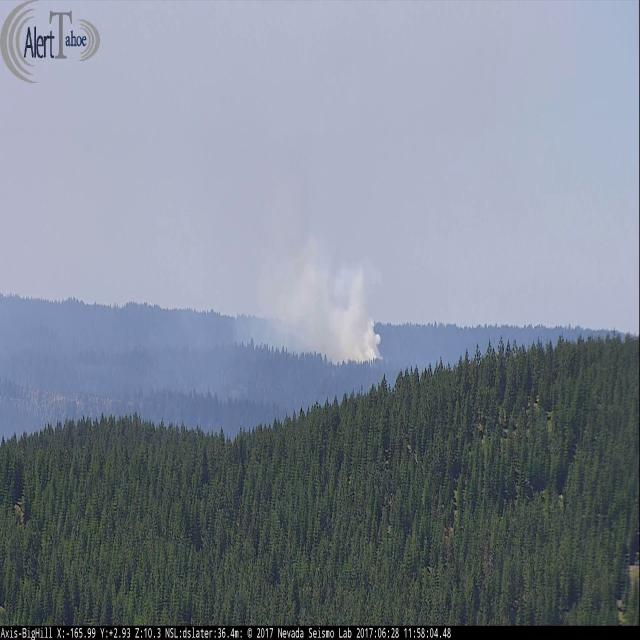smoke: (224, 195, 388, 372)
